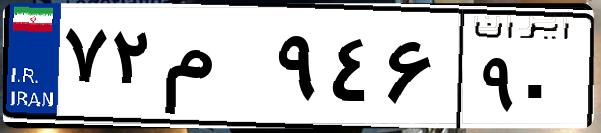0: (525, 38, 570, 115)
2: (110, 28, 158, 98)
4: (330, 28, 385, 110)
6: (385, 28, 445, 110)
7: (57, 26, 110, 100)
9: (270, 28, 330, 110), (475, 38, 525, 113)
م: (158, 20, 270, 120)
